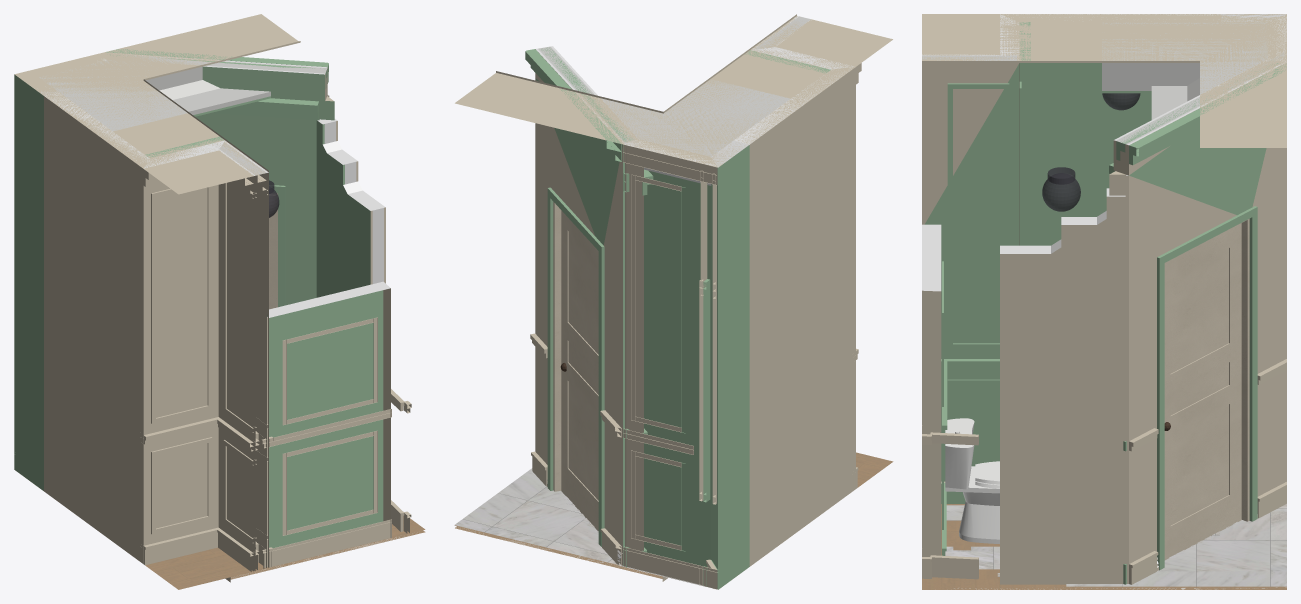
Rendered from powder-room-9856d81bc96f.glb.
The picture shows the model from 3 angles, left to right: view 1: azimuth 30°, elevation 25°; view 2: azimuth 150°, elevation 25°; view 3: azimuth 270°, elevation 25°; orthographic projection. The views are drawn at different scales.
Parts seen in each view (by area): view 1: powder-room-d33eebe572d154f2, powder-room-ab5cb5e7d303dd66, powder-room-1a8091885ac212af, powder-room-2575515a05775d9e, powder-room-85f0fd939e0fcc78, powder-room-a5eabba2ad6474eb, powder-room-9b21989b25895c4a, powder-room-3d7935a3f1355396, powder-room-5b07a8f5f7929ff6, powder-room-e91ef464e027c1e4, powder-room-e5e2173c4bbfdbc5, powder-room-d73aa2fd0c2e74ea (+16 smaller); view 2: powder-room-d33eebe572d154f2, powder-room-a5eabba2ad6474eb, powder-room-b2b5f93b4255576d, powder-room-2575515a05775d9e, powder-room-9b21989b25895c4a, powder-room-539cd4ce99668665, powder-room-5b07a8f5f7929ff6, powder-room-ba376bd68a22f7f3, powder-room-508918a0cc600d89, powder-room-ae2ab6de1156d266, powder-room-86d6fc7292b21ae1, powder-room-f5fbb4dd3b92b4c5 (+12 smaller); view 3: powder-room-d65b0a574c2ac13c, powder-room-a5eabba2ad6474eb, powder-room-85f0fd939e0fcc78, powder-room-2575515a05775d9e, powder-room-539cd4ce99668665, powder-room-d33eebe572d154f2, powder-room-ba376bd68a22f7f3, powder-room-5b07a8f5f7929ff6, powder-room-ab5cb5e7d303dd66, powder-room-508918a0cc600d89, powder-room-6816c5960149b4dc, powder-room-e08d4ba707d0aa50 (+18 smaller).
Boxes of the visible parts, left/top/right/bottom form: powder-room-d33eebe572d154f2: left=44, top=92, right=149, bottom=563; powder-room-ab5cb5e7d303dd66: left=268, top=281, right=390, bottom=548; powder-room-1a8091885ac212af: left=143, top=140, right=224, bottom=545; powder-room-2575515a05775d9e: left=14, top=14, right=300, bottom=194; powder-room-85f0fd939e0fcc78: left=214, top=141, right=268, bottom=571; powder-room-a5eabba2ad6474eb: left=123, top=54, right=334, bottom=305; powder-room-9b21989b25895c4a: left=14, top=74, right=57, bottom=490; powder-room-3d7935a3f1355396: left=316, top=120, right=372, bottom=297; powder-room-5b07a8f5f7929ff6: left=39, top=60, right=270, bottom=131; powder-room-e91ef464e027c1e4: left=151, top=186, right=212, bottom=423; powder-room-e5e2173c4bbfdbc5: left=268, top=519, right=391, bottom=567; powder-room-d73aa2fd0c2e74ea: left=319, top=119, right=383, bottom=283; powder-room-d33eebe572d154f2: left=734, top=67, right=855, bottom=566; powder-room-a5eabba2ad6474eb: left=535, top=46, right=643, bottom=566; powder-room-b2b5f93b4255576d: left=623, top=139, right=717, bottom=589; powder-room-2575515a05775d9e: left=455, top=14, right=892, bottom=167; powder-room-9b21989b25895c4a: left=711, top=140, right=749, bottom=589; powder-room-539cd4ce99668665: left=561, top=210, right=598, bottom=530; powder-room-5b07a8f5f7929ff6: left=601, top=79, right=790, bottom=156; powder-room-ba376bd68a22f7f3: left=454, top=468, right=703, bottom=585; powder-room-508918a0cc600d89: left=547, top=187, right=604, bottom=546; powder-room-ae2ab6de1156d266: left=631, top=174, right=685, bottom=433; powder-room-86d6fc7292b21ae1: left=553, top=202, right=561, bottom=491; powder-room-f5fbb4dd3b92b4c5: left=623, top=547, right=717, bottom=589; powder-room-d65b0a574c2ac13c: left=1000, top=195, right=1125, bottom=584; powder-room-a5eabba2ad6474eb: left=1109, top=52, right=1286, bottom=583; powder-room-85f0fd939e0fcc78: left=922, top=54, right=1019, bottom=481; powder-room-2575515a05775d9e: left=922, top=14, right=1286, bottom=147; powder-room-539cd4ce99668665: left=1164, top=223, right=1241, bottom=560; powder-room-d33eebe572d154f2: left=1003, top=14, right=1220, bottom=245; powder-room-ba376bd68a22f7f3: left=1066, top=504, right=1286, bottom=586; powder-room-5b07a8f5f7929ff6: left=1102, top=22, right=1267, bottom=119; powder-room-ab5cb5e7d303dd66: left=922, top=224, right=941, bottom=556; powder-room-508918a0cc600d89: left=1157, top=206, right=1257, bottom=570; powder-room-6816c5960149b4dc: left=945, top=418, right=999, bottom=543; powder-room-e08d4ba707d0aa50: left=947, top=83, right=1009, bottom=348.
Size of the model in its own units: 1.96 by 3.05 by 2.26.
20 materials, 5 textured.
